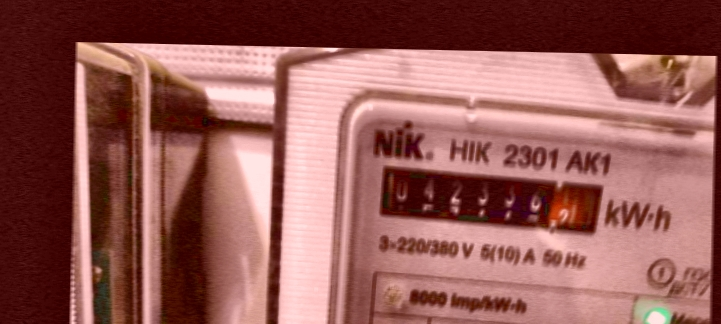0: (394, 171, 408, 201)
2: (446, 174, 465, 202)
3: (473, 175, 490, 204), (502, 177, 517, 205)
4: (420, 173, 437, 200)
6: (527, 183, 543, 210)
screen: (369, 154, 610, 240)
